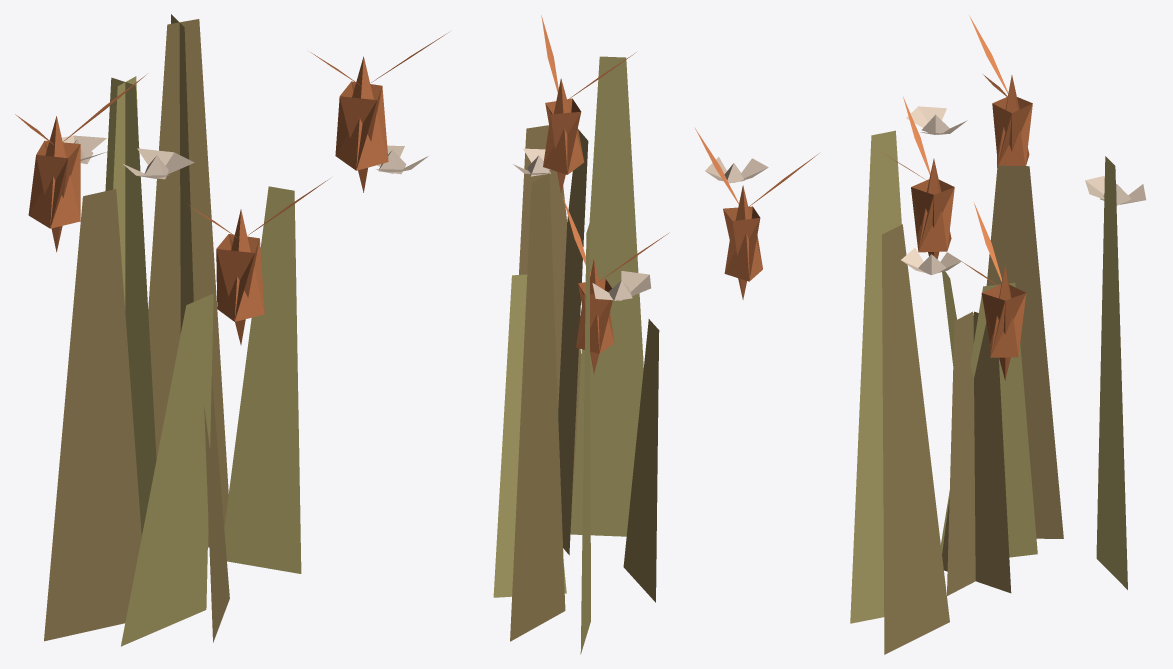
The model's file is nong.dao__autumn.glb.
3 renders of one model, left to right at view 1: azimuth 30°, elevation 25°; view 2: azimuth 150°, elevation 25°; view 3: azimuth 270°, elevation 25°, orthographic. The views are drawn at different scales.
Visible parts, largest first — view 1: nong.dao__autumn; view 2: nong.dao__autumn; view 3: nong.dao__autumn.
Boxes of the visible parts, bbox=[...] form: nong.dao__autumn: bbox=[15, 14, 448, 646]; nong.dao__autumn: bbox=[493, 15, 819, 654]; nong.dao__autumn: bbox=[850, 15, 1146, 654].
Size of the model in its own units: 0.7368 by 1.07 by 0.5942.
